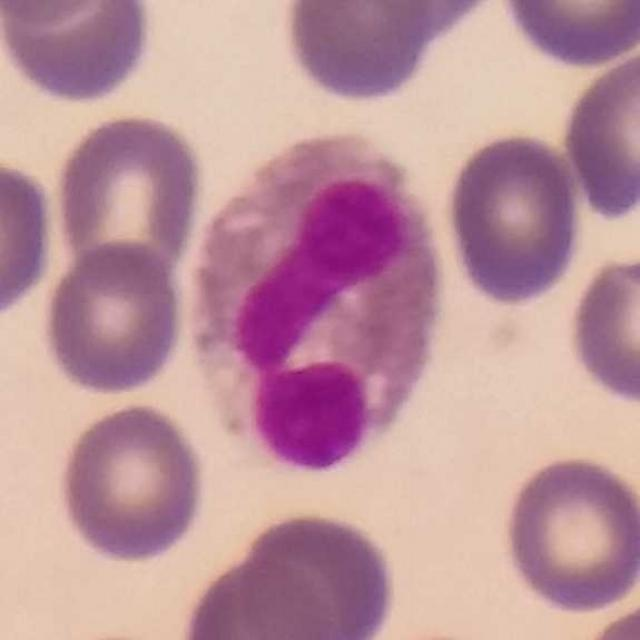eosino: (190, 130, 446, 476)
